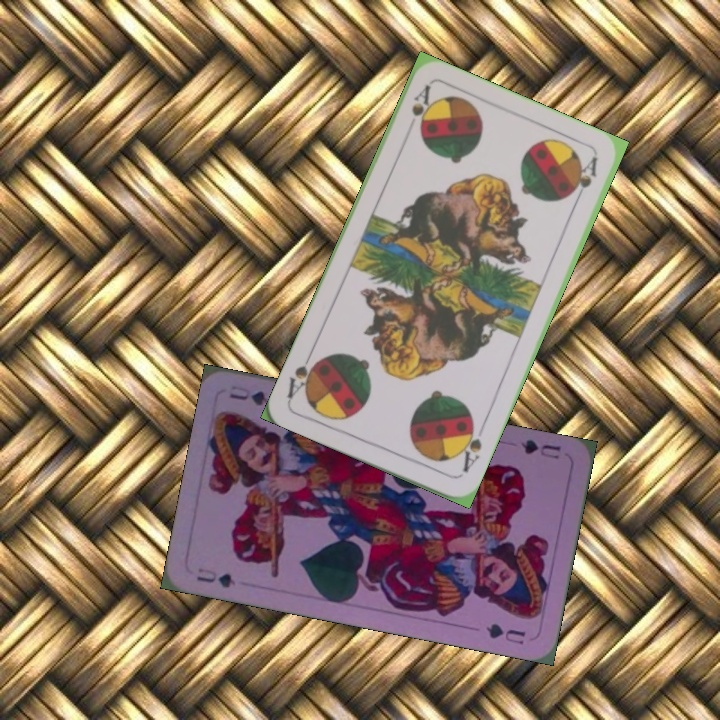GU: (517, 435, 563, 462), (192, 564, 238, 591)
SA: (453, 418, 485, 475), (407, 81, 435, 135)
